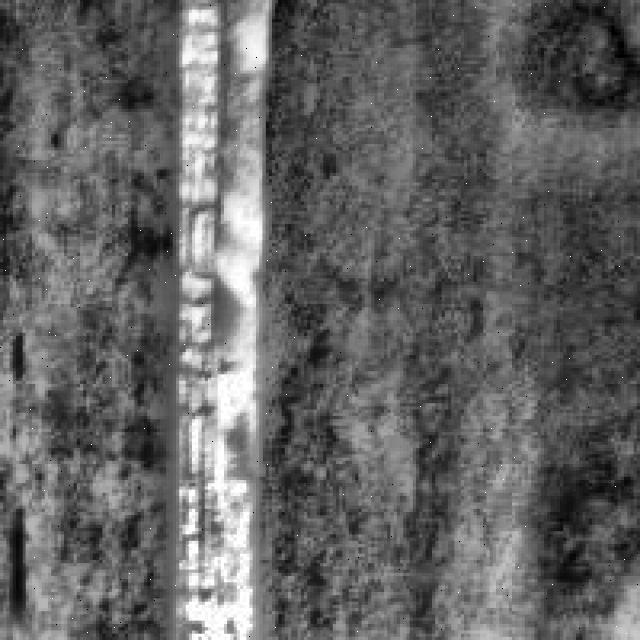Inclusion: (154, 0, 276, 634)
